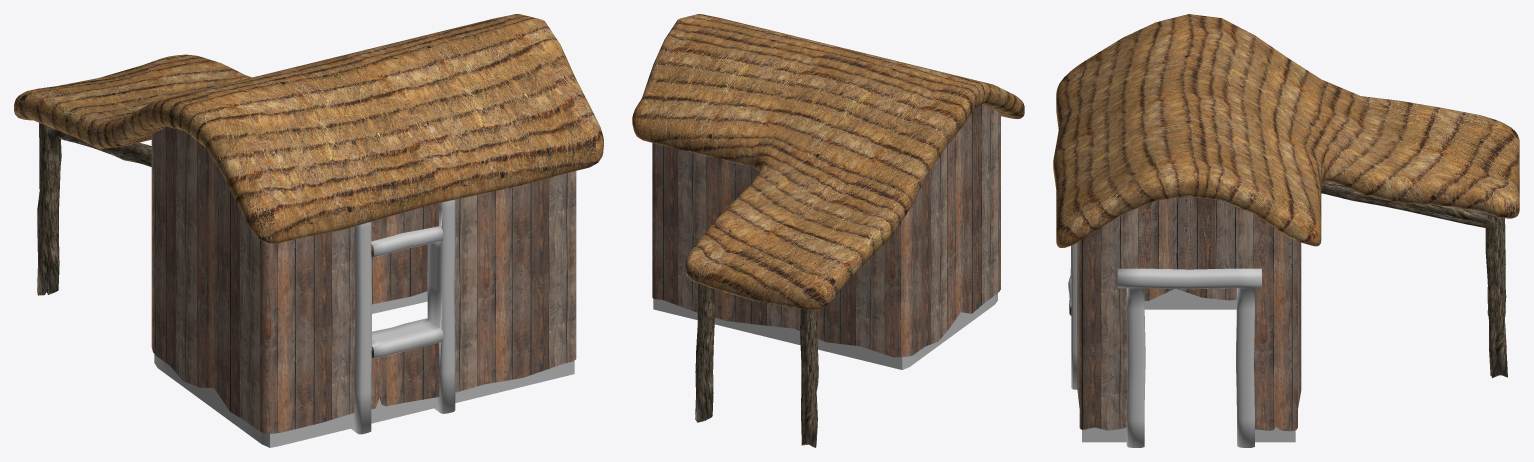
Rendered from House2_Objects.fbx.
3 renders of one model, left to right at view 1: azimuth 30°, elevation 25°; view 2: azimuth 150°, elevation 25°; view 3: azimuth 270°, elevation 25°, orthographic. The views are drawn at different scales.
Parts seen in each view (by area): view 1: Wall, Roof, WindowFrame, WoodSupport; view 2: Roof, Wall, WoodSupport; view 3: Roof, Wall, DoorFrame, WoodSupport, WindowFrame.
Part boxes in pixels (x1,y1,x2,y2): Wall: (151, 127, 576, 447); Roof: (14, 14, 603, 243); WindowFrame: (351, 199, 455, 434); WoodSupport: (37, 123, 151, 295); Roof: (632, 14, 1024, 310); Wall: (652, 104, 1000, 369); WoodSupport: (695, 283, 818, 447); Roof: (1053, 14, 1519, 247); Wall: (1077, 196, 1301, 442); DoorFrame: (1117, 268, 1261, 447); WoodSupport: (1321, 181, 1507, 378); WindowFrame: (1068, 243, 1077, 389).
Size of the model in its own units: 956 by 785 by 1134.
